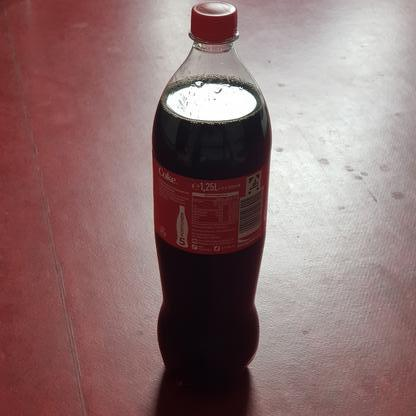coca-cola: (150, 2, 273, 397)
